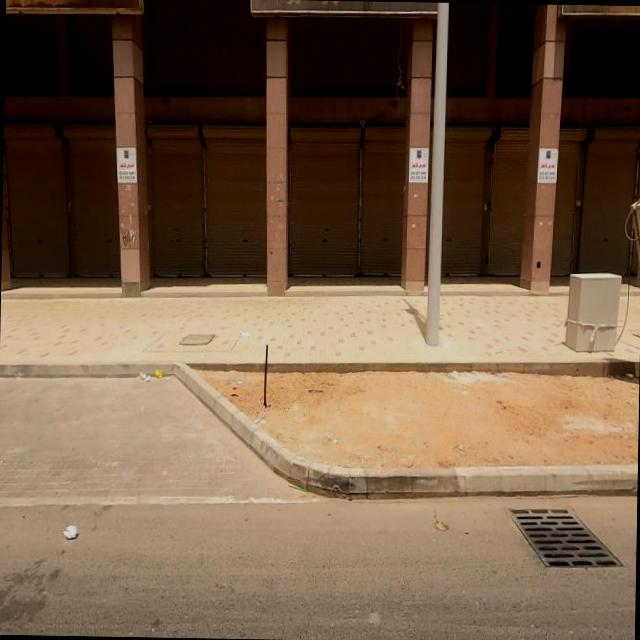debris: (118, 348, 184, 414), (45, 513, 100, 589), (227, 310, 265, 366)
